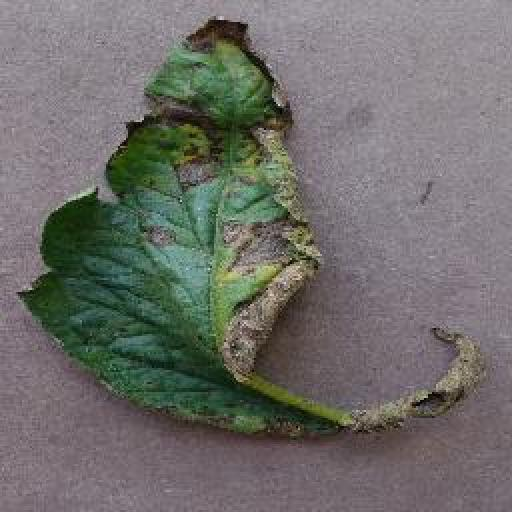Early Blight: (21, 15, 484, 445)
